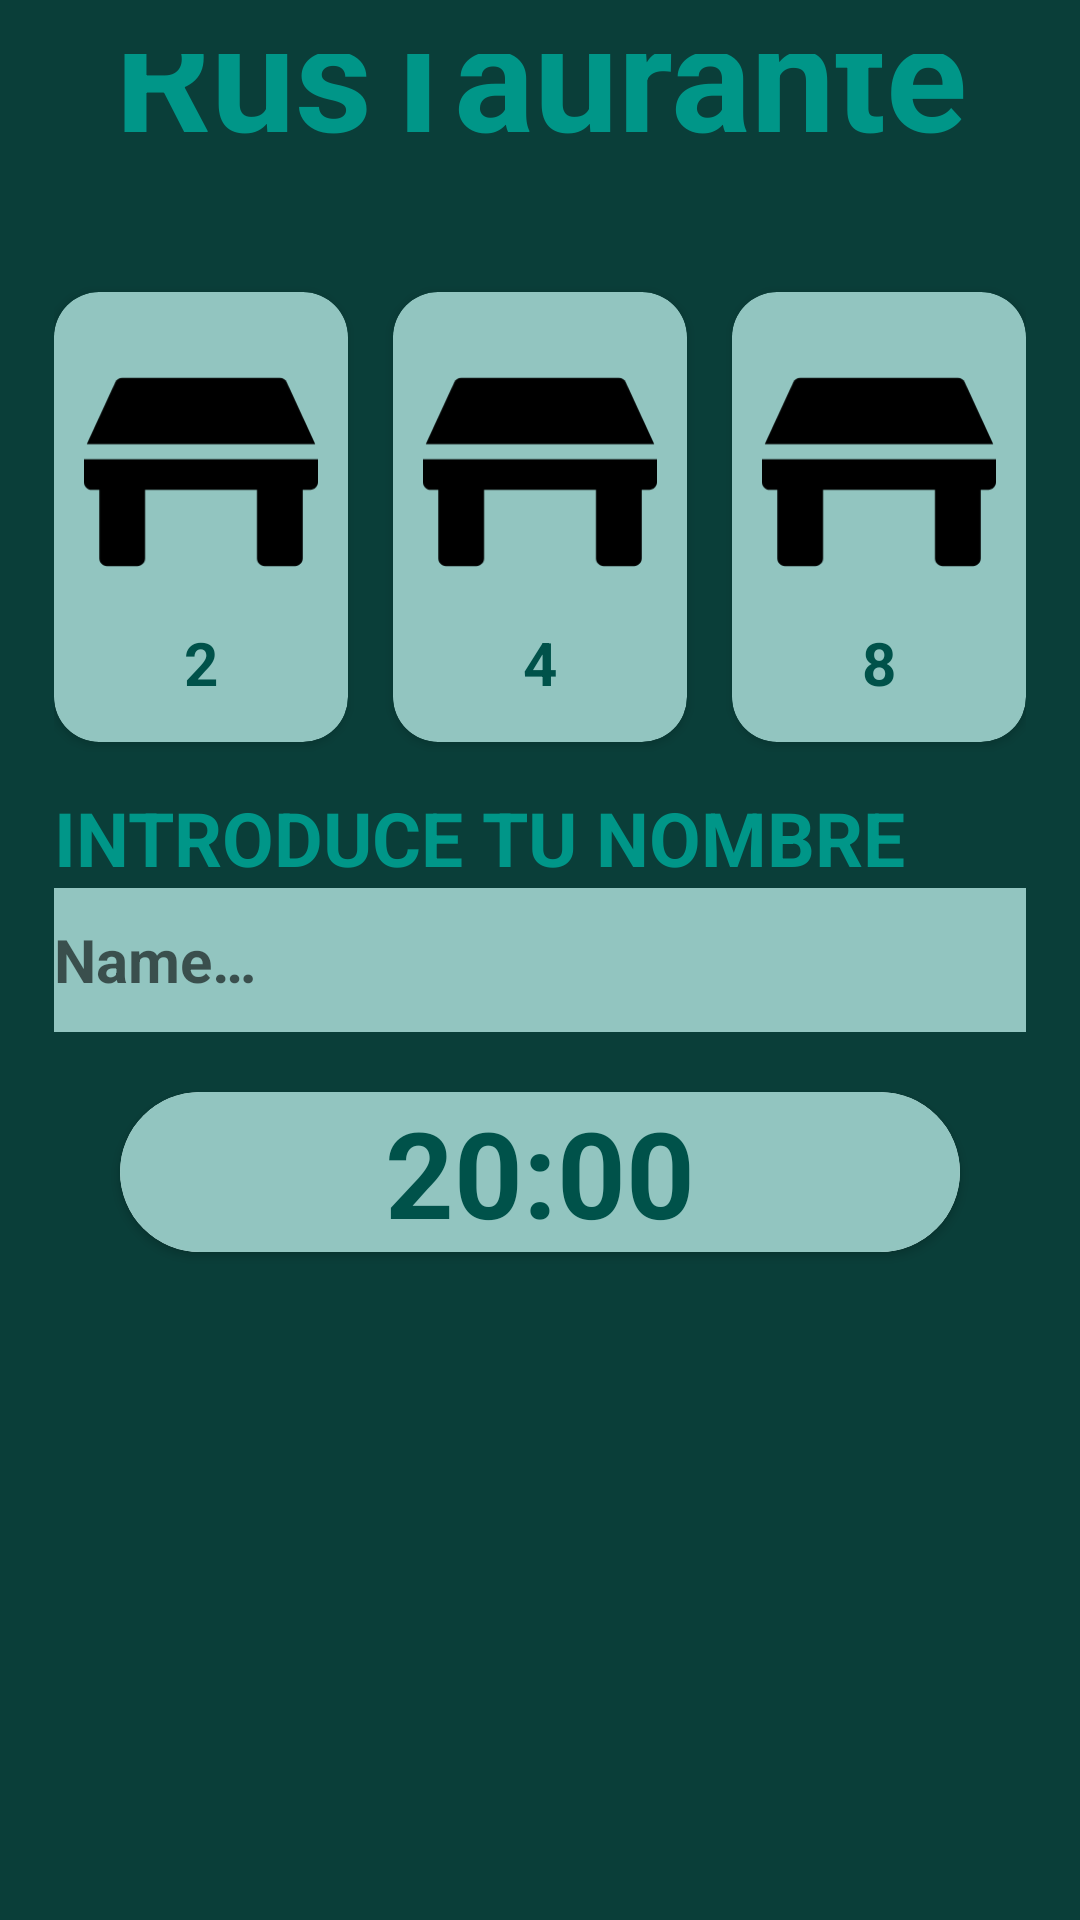

Named icons in this screenshot (1080 x 1920) and their bounding boxes, bbox(x1, y1, x2, y2):
table: bbox(84, 377, 318, 567), bbox(423, 377, 657, 567), bbox(762, 377, 996, 567)
